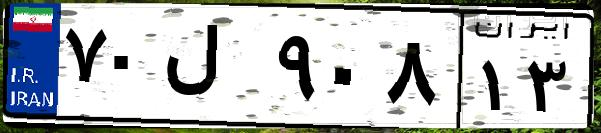0: (330, 28, 385, 110), (110, 28, 158, 98)
1: (475, 38, 525, 113)
3: (525, 38, 570, 115)
7: (57, 26, 110, 100)
8: (385, 28, 445, 110)
9: (270, 28, 330, 110)
ل: (158, 20, 270, 120)
